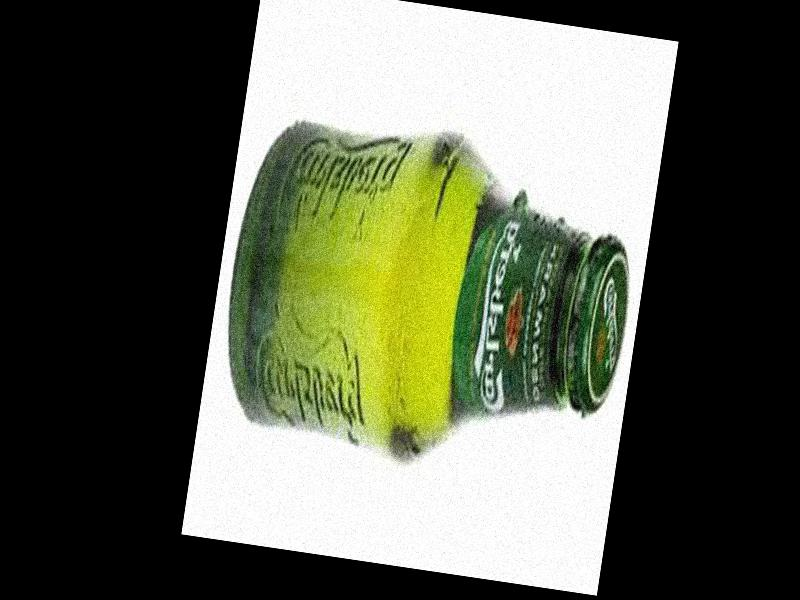Beer: (208, 106, 648, 482)
